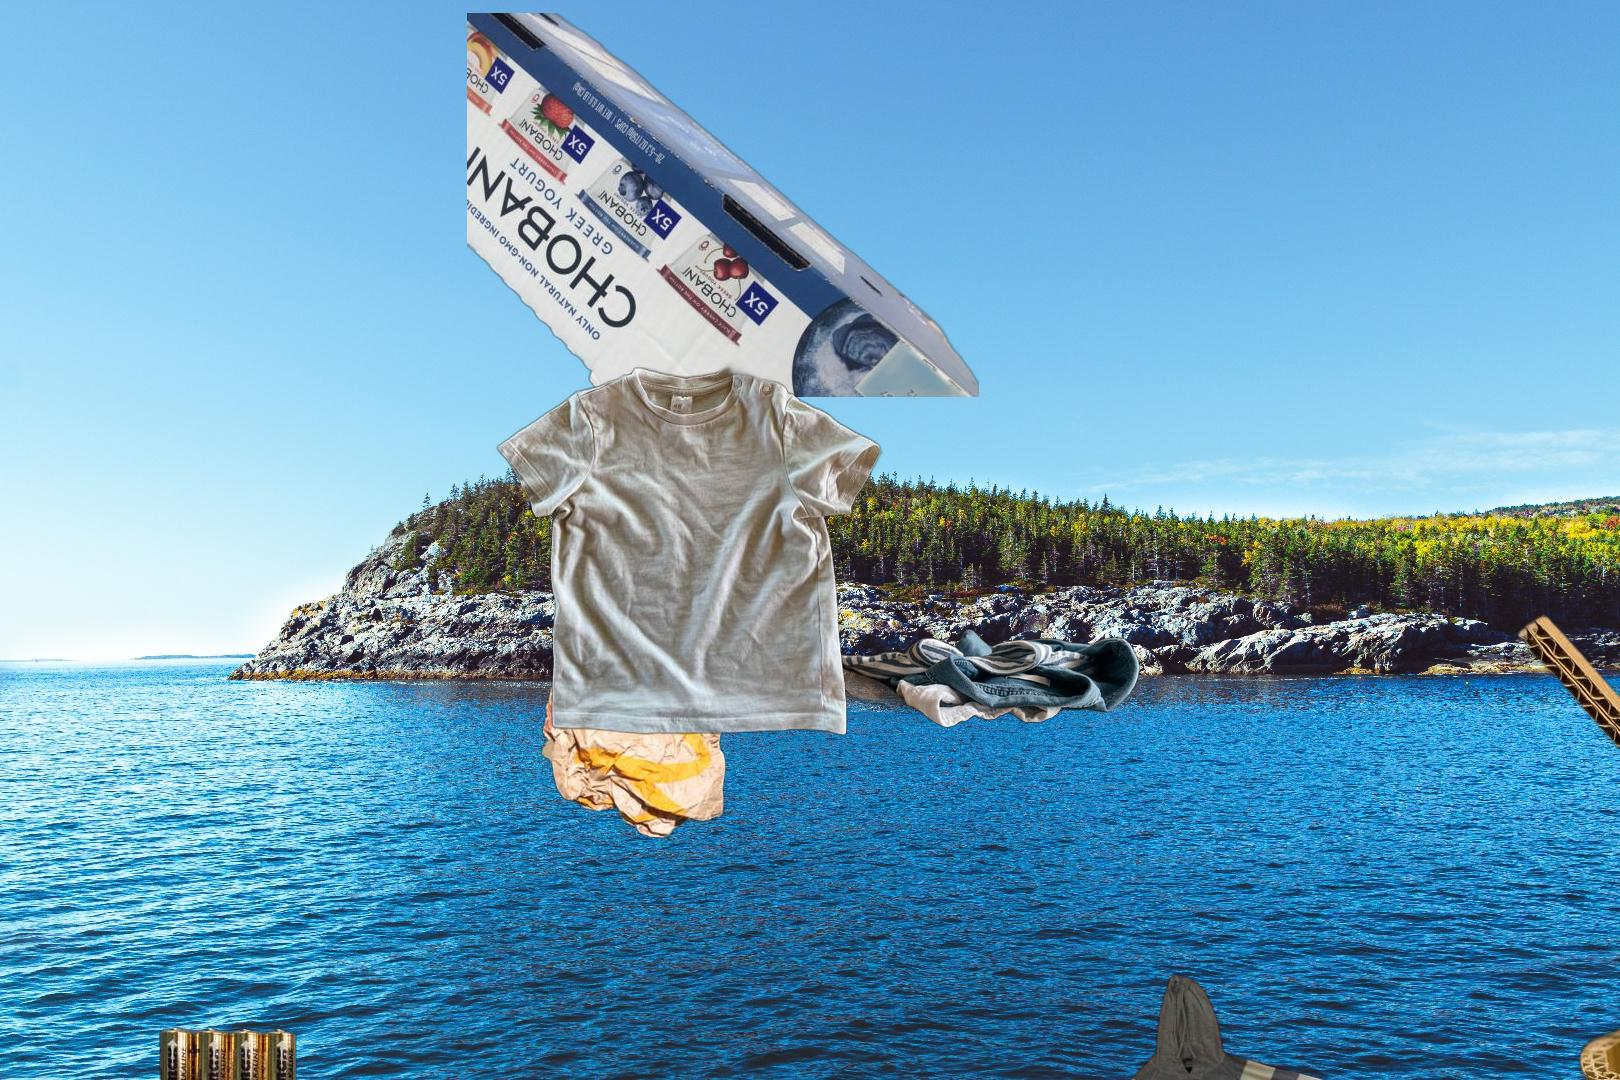battery: (155, 1025, 299, 1080)
clothes: (494, 358, 885, 740), (1094, 964, 1490, 1080)
metal-cans: (459, 972, 972, 1080)
paper-bag: (539, 667, 729, 841)
trashbox-cardboard: (466, 13, 979, 397), (1402, 606, 1620, 1080), (811, 627, 1163, 730)
